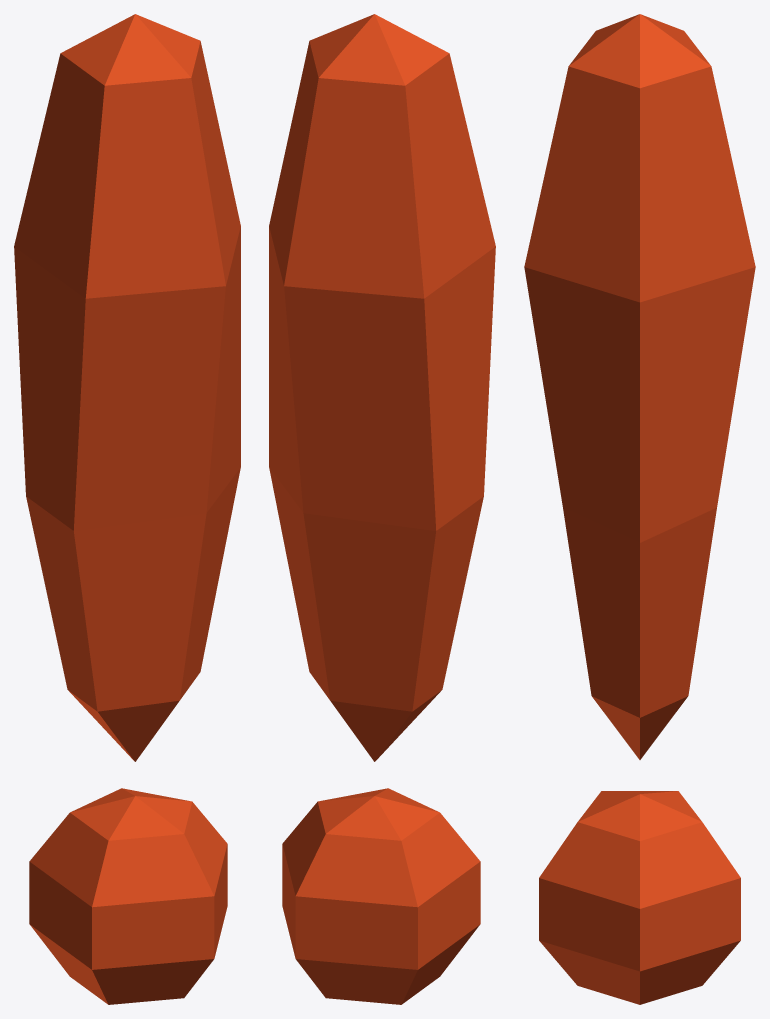
The model's file is ui_exclamation.fbx.
3 views of the same model, side by side, from view 1: azimuth 30°, elevation 25°; view 2: azimuth 150°, elevation 25°; view 3: azimuth 270°, elevation 25° (orthographic).
Visible parts, largest first — view 1: pSphere13; view 2: pSphere13; view 3: pSphere13.
Part boxes in pixels (box(x1,y1,x2,y2)): pSphere13: box(14, 14, 240, 1004); pSphere13: box(269, 14, 495, 1004); pSphere13: box(524, 14, 755, 1004).
Size of the model in its own units: 0.1789 by 0.8815 by 0.1881.
